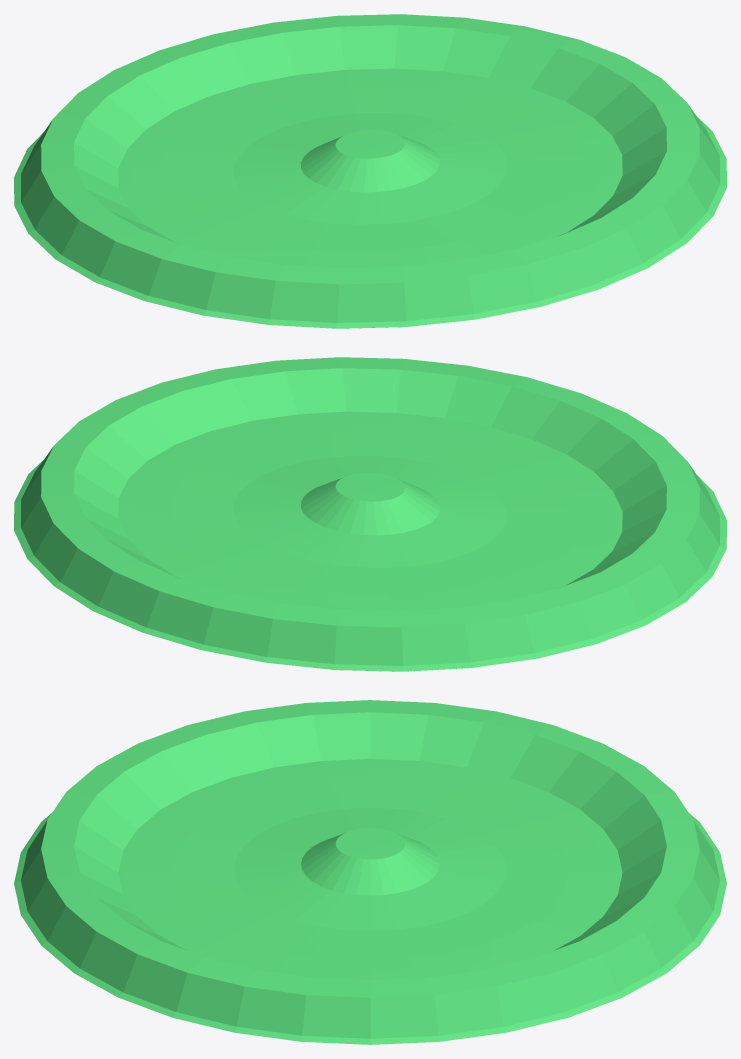
File: Circle_Prototype_1.glb
The picture shows the model from 3 angles, top to bottom: view 1: azimuth 30°, elevation 25°; view 2: azimuth 150°, elevation 25°; view 3: azimuth 270°, elevation 25°; orthographic projection. The views are drawn at different scales.
Visible parts, largest first — view 1: Sphere; view 2: Sphere; view 3: Sphere.
Part boxes in pixels (box(x1,y1,x2,y2)): Sphere: box(14, 14, 726, 328); Sphere: box(14, 357, 726, 671); Sphere: box(14, 700, 726, 1044).
Bounding box in the file's own units: 1.66 × 0.1334 × 1.55.
